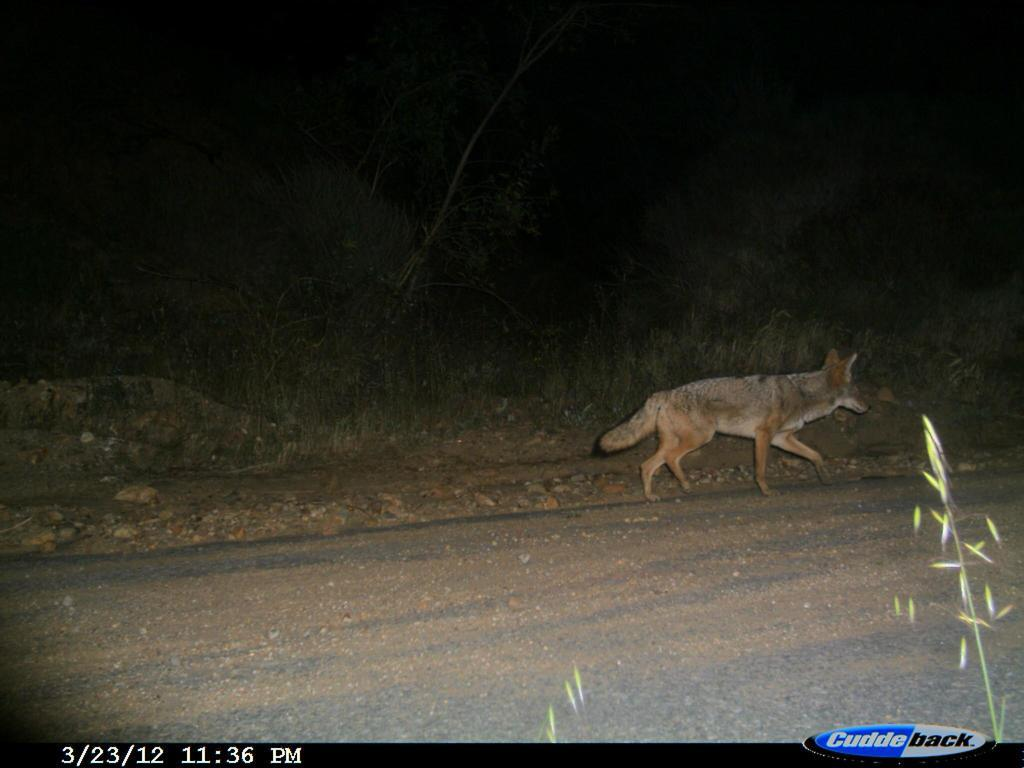coyote: (594, 345, 877, 506)
